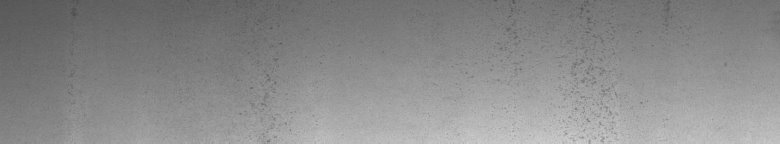ib: (499, 5, 618, 128)
